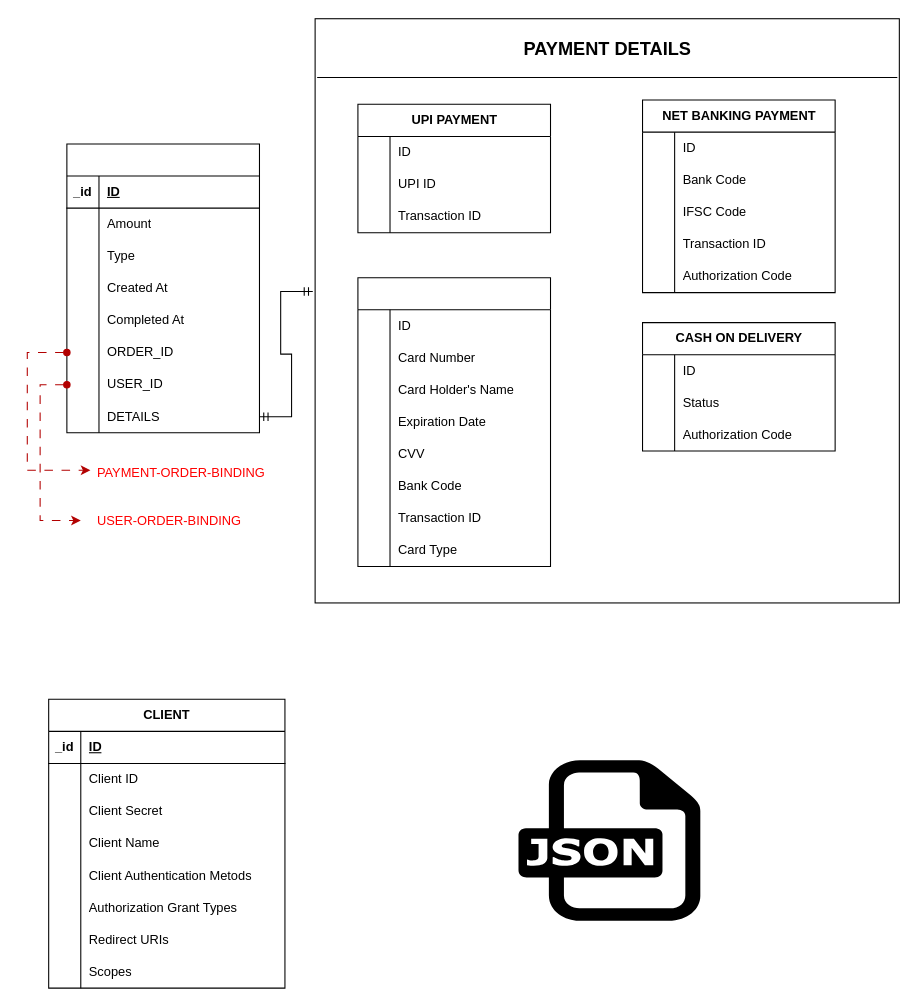
Image size: 918x1007. Some labels were removed from this diagram. The box of each missing label's shape, as (x1, y1, x2, y2) in pixels:
CARD PAYMENT: (357, 277, 551, 567)
PAYMENT: (66, 143, 259, 433)
